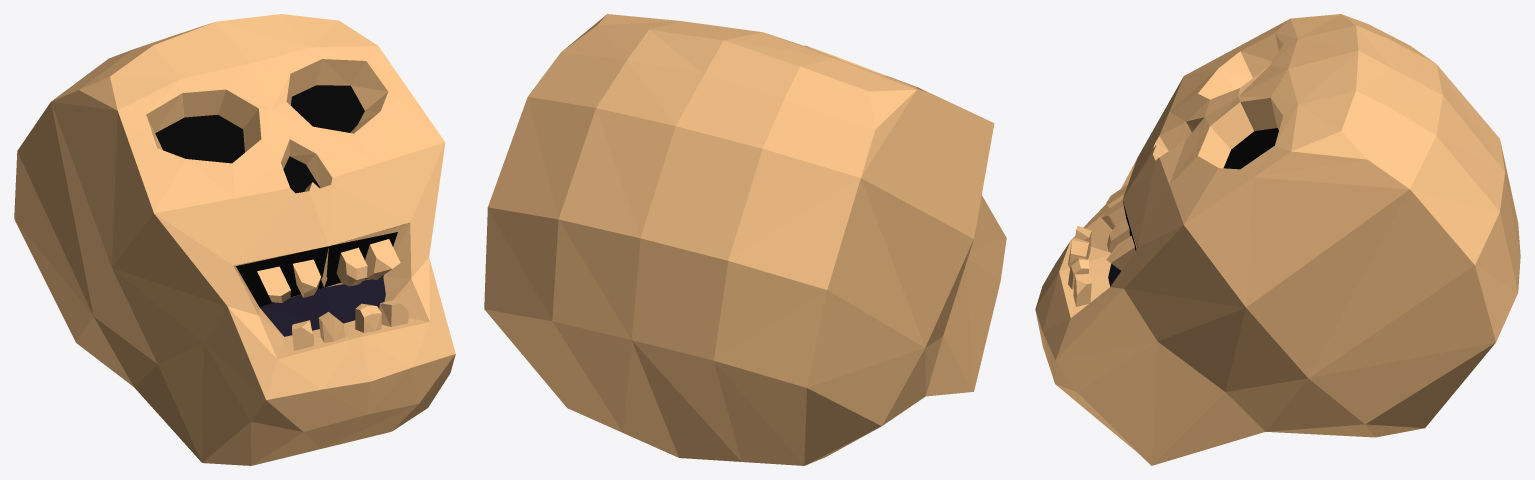
File: Skull 01.fbx
3 views of the same model, side by side, from view 1: azimuth 30°, elevation 25°; view 2: azimuth 150°, elevation 25°; view 3: azimuth 270°, elevation 25° (orthographic). The views are drawn at different scales.
Visible parts, largest first — view 1: Skull 01; view 2: Skull 01; view 3: Skull 01.
Boxes of the visible parts, <box> form: Skull 01: <box>14,14,455,465</box>; Skull 01: <box>484,14,1006,465</box>; Skull 01: <box>1035,14,1520,465</box>.
Bounding box in the file's own units: 21.54 × 22.8 × 27.35.
